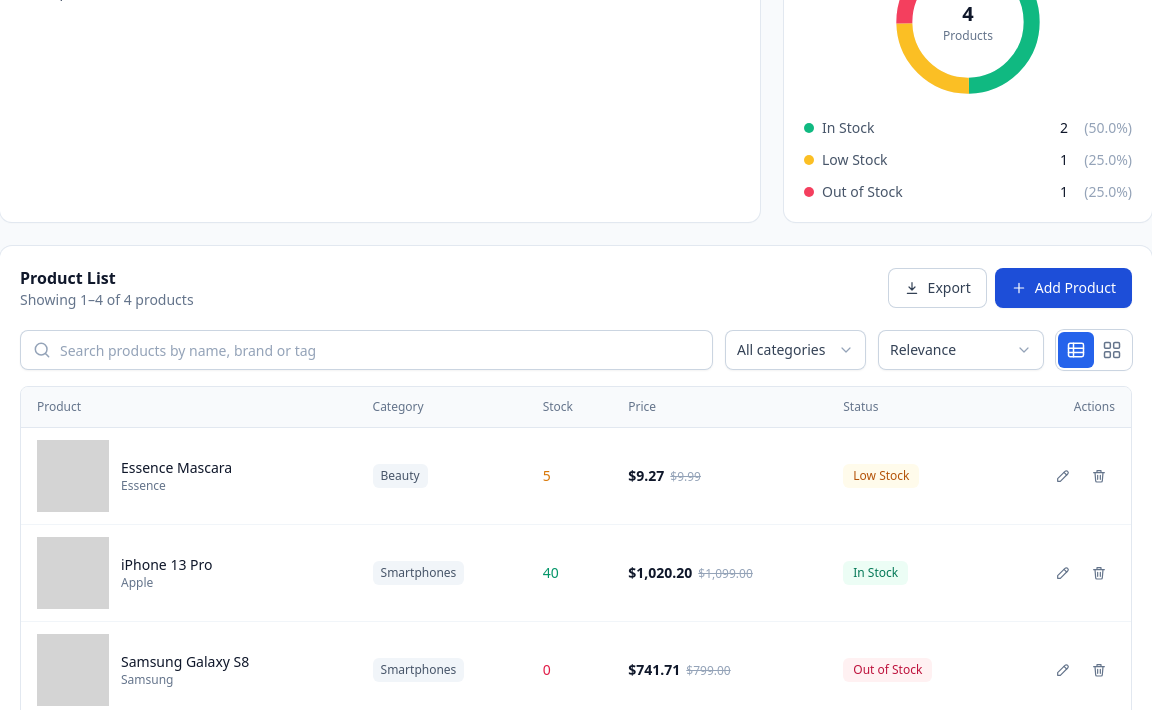
Test case: ProductsPage › shows an empty state when nothing matches and clears the filters
This screenshot has width=1152, height=710.
(page scrolled)
Step 1. Type "zzzz" into the search field labelled "Search products" → (366, 350), box left=20, top=330, right=713, bottom=370
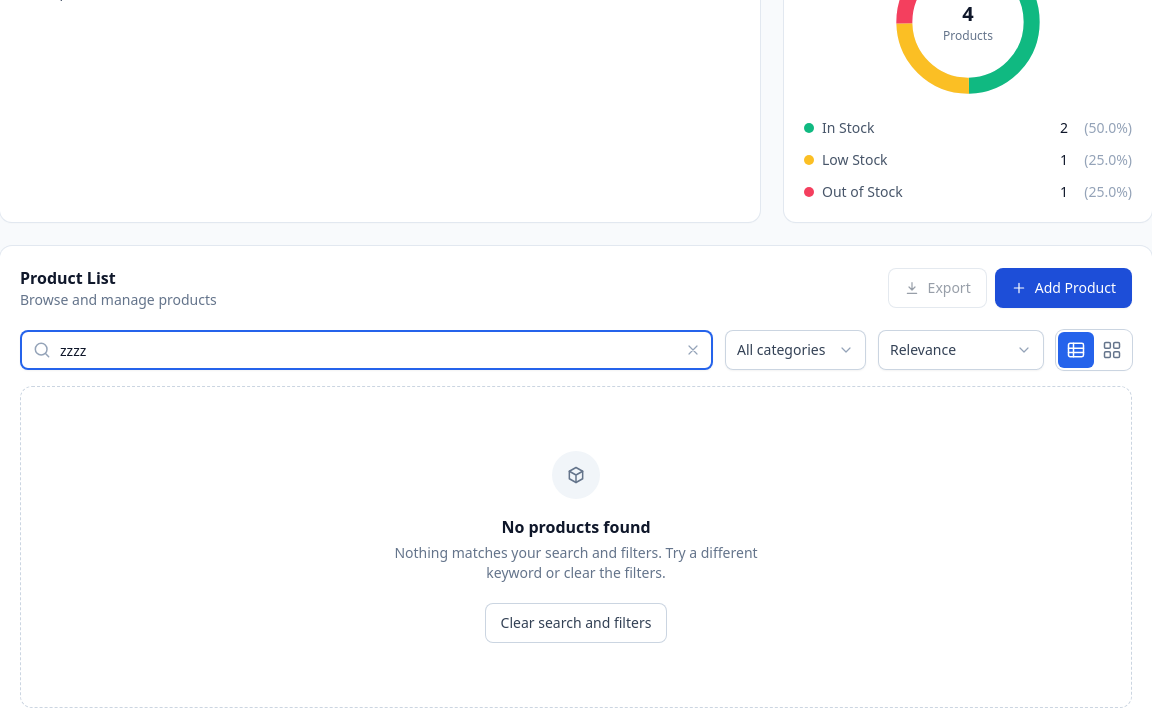
Expected: the heading "No products found" is shown, left=501, top=515, right=651, bottom=539
Step 2. Click the button "Clear search and filters" → (576, 623), box left=485, top=603, right=667, bottom=643
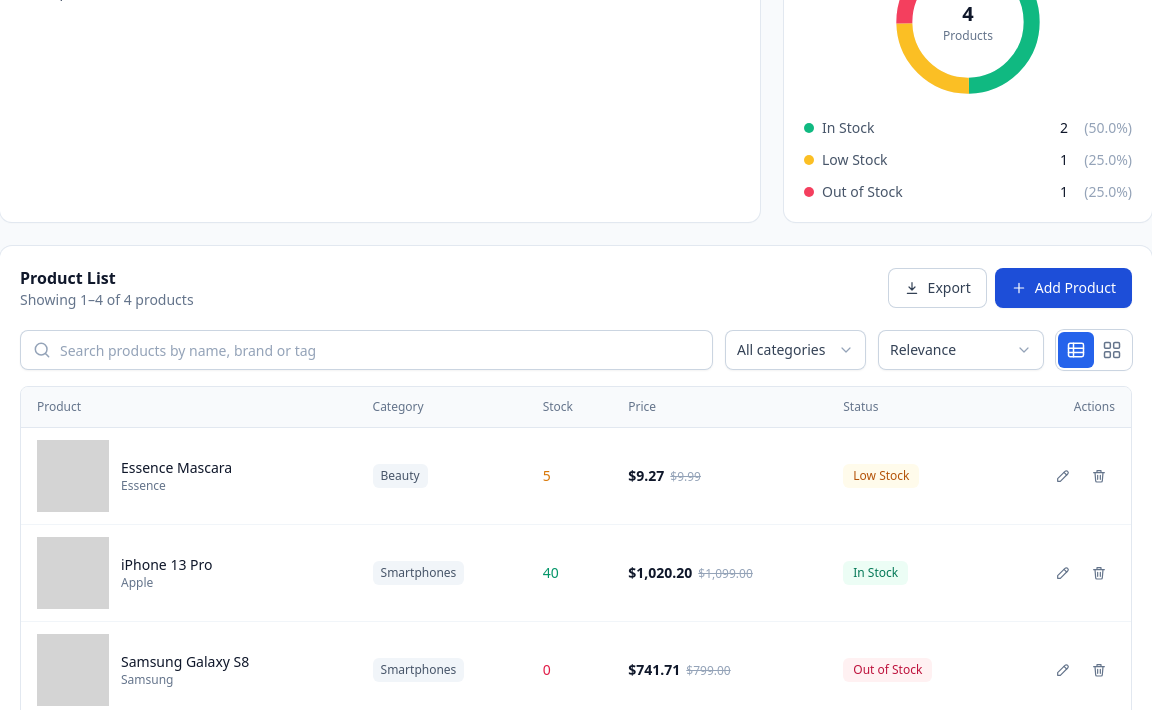
Expected: the search field labelled "Search products" is empty, left=20, top=330, right=713, bottom=370
